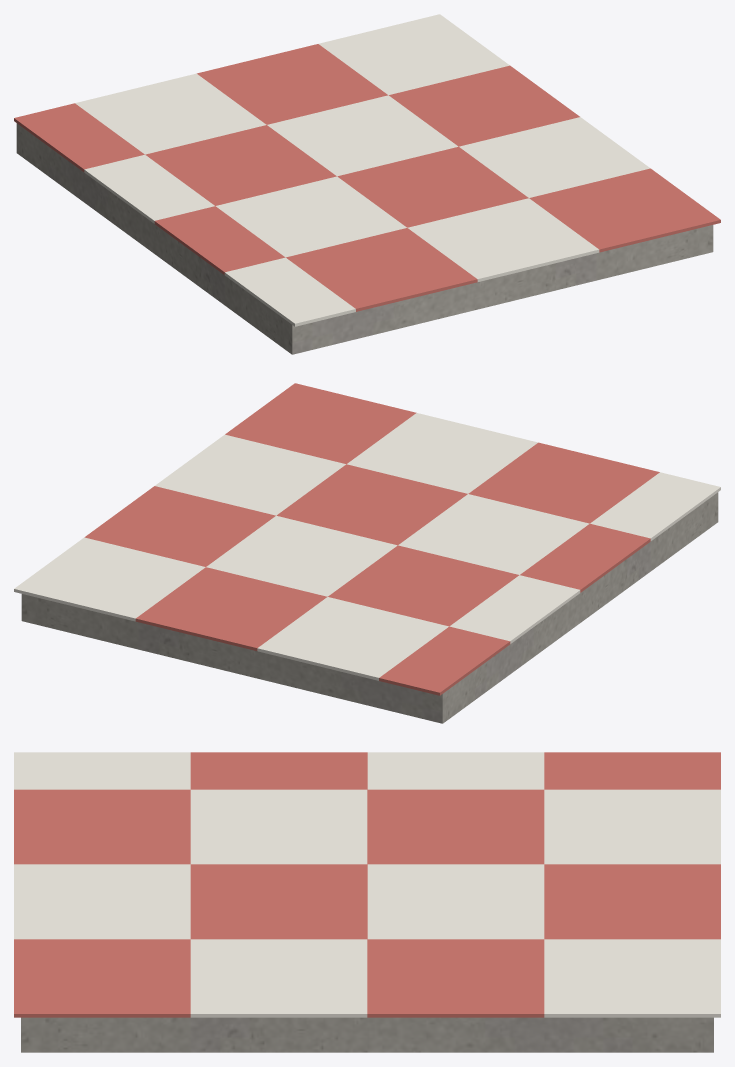
File: floor_dine_e25_0_0_0.glb
The picture shows the model from 3 angles, top to bottom: view 1: azimuth 30°, elevation 25°; view 2: azimuth 150°, elevation 25°; view 3: azimuth 270°, elevation 25°; orthographic projection. The views are drawn at different scales.
Parts seen in each view (by area): view 1: floor_dine_e25_0_0_0_tile_r, floor_dine_e25_0_0_0_tile_w, floor_dine_e25_0_0_0_concrete; view 2: floor_dine_e25_0_0_0_tile_w, floor_dine_e25_0_0_0_tile_r, floor_dine_e25_0_0_0_concrete; view 3: floor_dine_e25_0_0_0_tile_r, floor_dine_e25_0_0_0_tile_w, floor_dine_e25_0_0_0_concrete.
Part boxes in pixels (x1=…): floor_dine_e25_0_0_0_tile_r: x1=14, y1=44, x2=720, y2=311; floor_dine_e25_0_0_0_tile_w: x1=75, y1=14, x2=650, y2=326; floor_dine_e25_0_0_0_concrete: x1=16, y1=123, x2=713, y2=354; floor_dine_e25_0_0_0_tile_w: x1=14, y1=413, x2=720, y2=680; floor_dine_e25_0_0_0_tile_r: x1=84, y1=383, x2=659, y2=695; floor_dine_e25_0_0_0_concrete: x1=21, y1=492, x2=718, y2=723; floor_dine_e25_0_0_0_tile_r: x1=14, y1=752, x2=720, y2=1017; floor_dine_e25_0_0_0_tile_w: x1=14, y1=752, x2=720, y2=1017; floor_dine_e25_0_0_0_concrete: x1=21, y1=1017, x2=713, y2=1052.
Size of the model in its own units: 1.75 by 0.13 by 2.
Materials: 3 (1 with a texture image).
